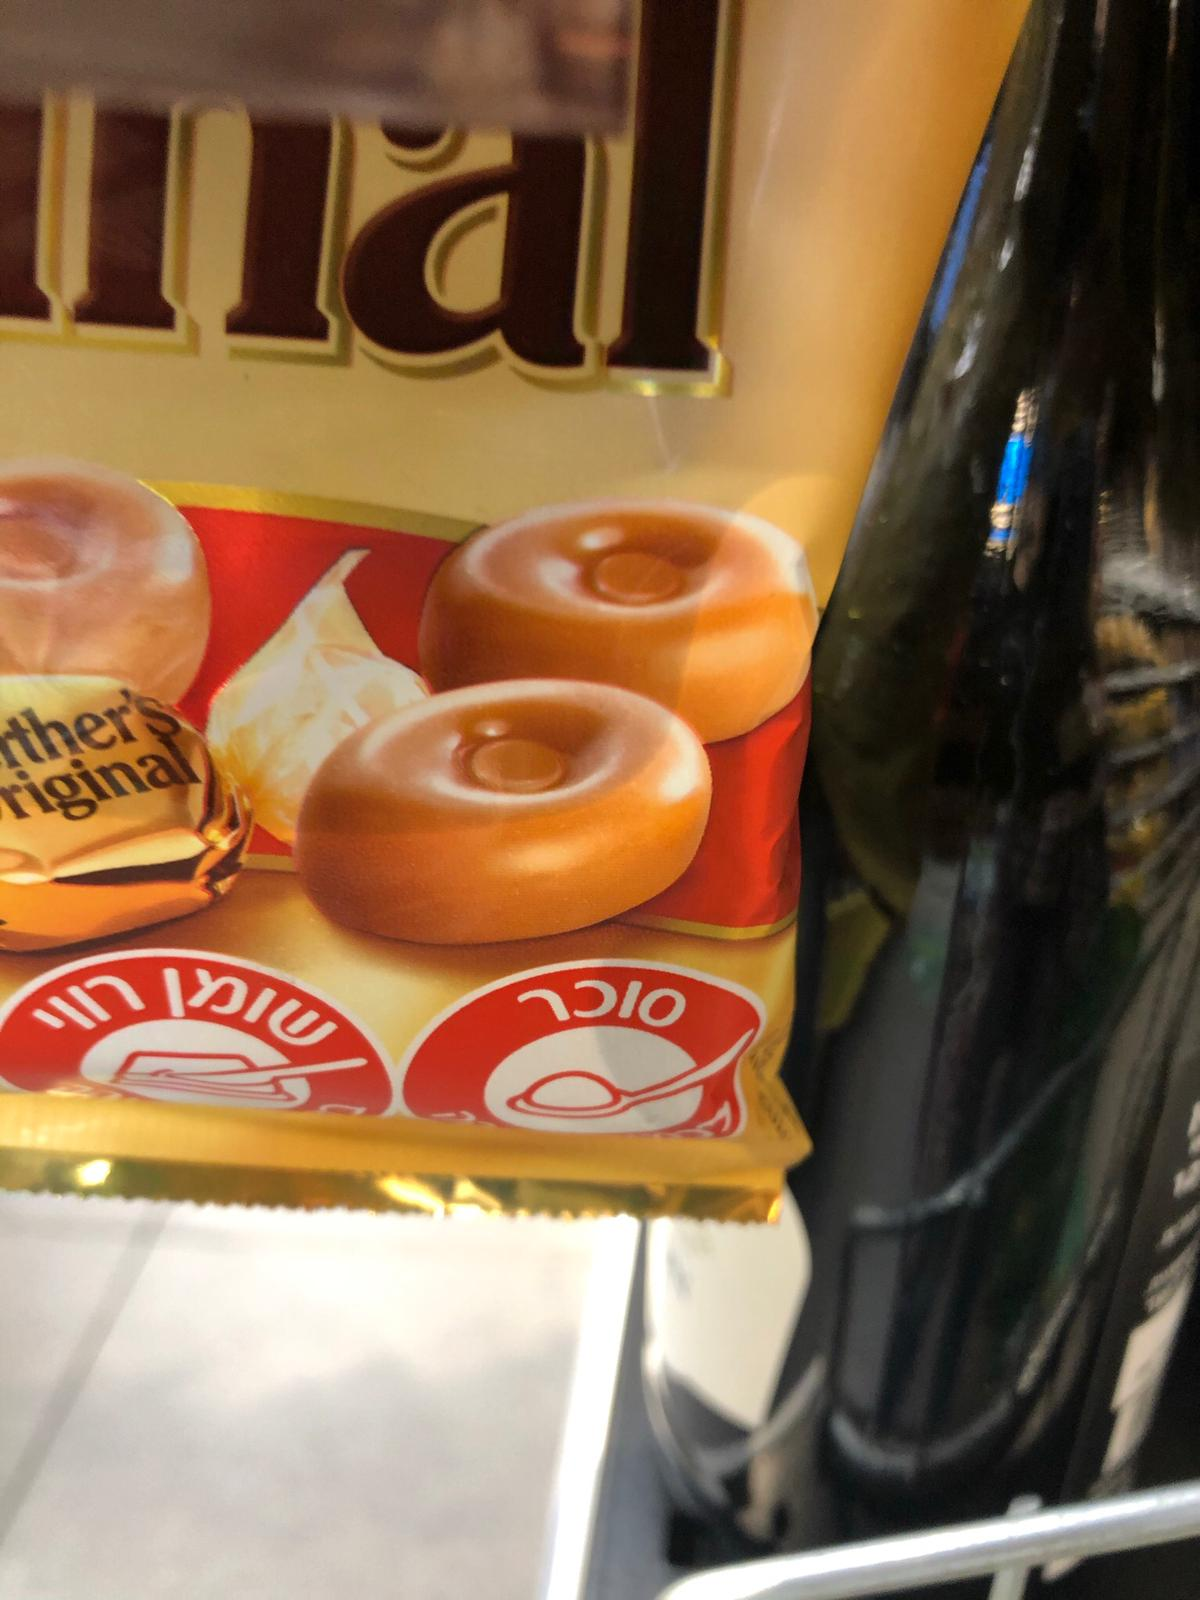fat: (1, 946, 396, 1119)
sugar: (396, 956, 766, 1143)
